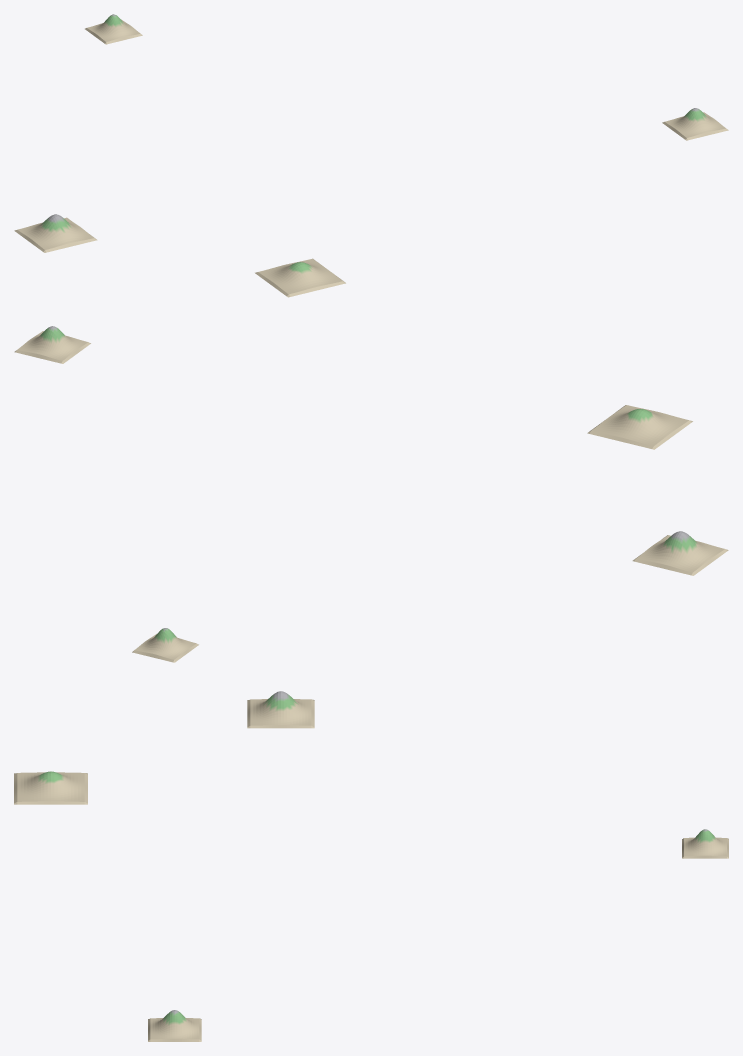
The model's file is ASTX_TERRAIN_ISLETS.glb.
3 renders of one model, top to bottom at view 1: azimuth 30°, elevation 25°; view 2: azimuth 150°, elevation 25°; view 3: azimuth 270°, elevation 25°, orthographic. The views are drawn at different scales.
Visible parts, largest first — view 1: ASTX_TERRAIN_isletSW, ASTX_TERRAIN_isletW, ASTX_TERRAIN_isletE, ASTX_TERRAIN_skerryN; view 2: ASTX_TERRAIN_isletSW, ASTX_TERRAIN_isletW, ASTX_TERRAIN_isletE, ASTX_TERRAIN_skerryN; view 3: ASTX_TERRAIN_isletSW, ASTX_TERRAIN_isletW, ASTX_TERRAIN_isletE, ASTX_TERRAIN_skerryN.
Boxes of the visible parts, x1,y1,x2,y2 form: ASTX_TERRAIN_isletSW: (255,258,345,297); ASTX_TERRAIN_isletW: (14,214,97,252); ASTX_TERRAIN_isletE: (662,108,728,140); ASTX_TERRAIN_skerryN: (85,14,142,44); ASTX_TERRAIN_isletSW: (587,405,692,449); ASTX_TERRAIN_isletW: (632,531,728,575); ASTX_TERRAIN_isletE: (14,326,90,363); ASTX_TERRAIN_skerryN: (132,628,198,662); ASTX_TERRAIN_isletSW: (14,771,87,804); ASTX_TERRAIN_isletW: (247,691,314,728); ASTX_TERRAIN_isletE: (148,1010,201,1041); ASTX_TERRAIN_skerryN: (682,829,728,858).
Size of the model in its own units: 457 by 14 by 404.
